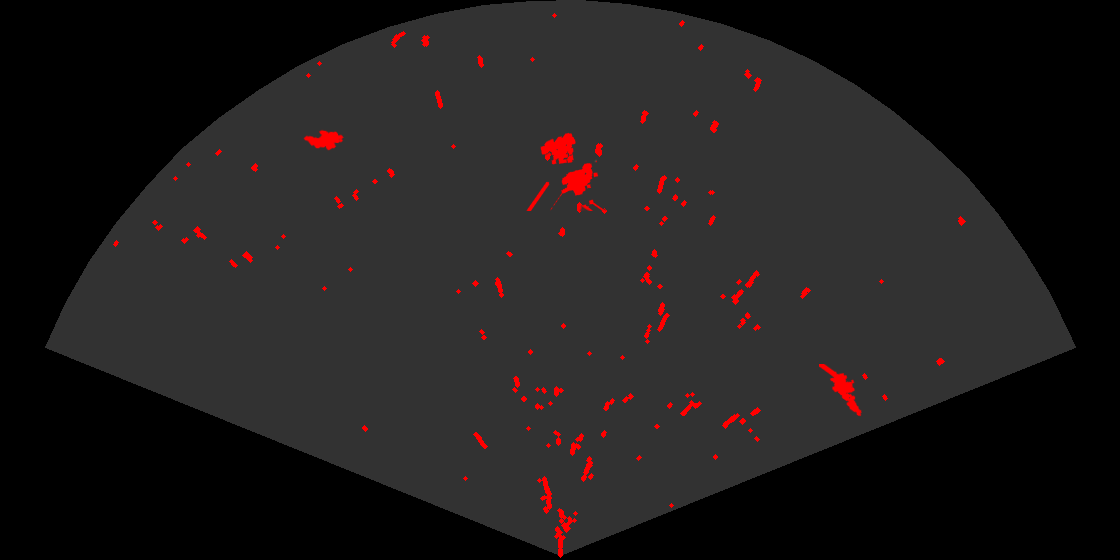AUV: (302, 128, 345, 152)
cage: (525, 131, 607, 211)
frogman: (819, 364, 863, 418)
